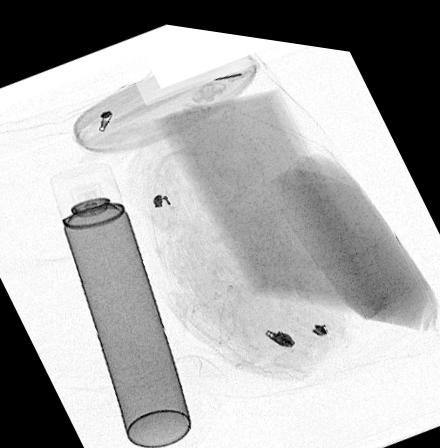Sprayer: (46, 155, 192, 446)
